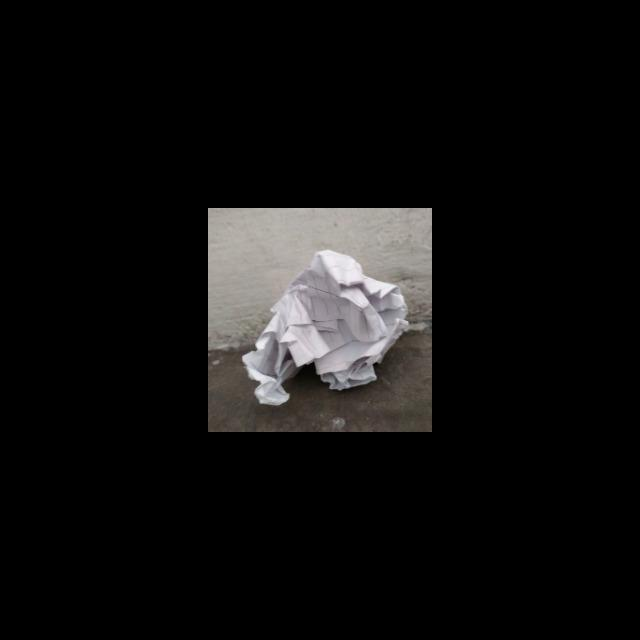paper: (241, 244, 415, 420)
